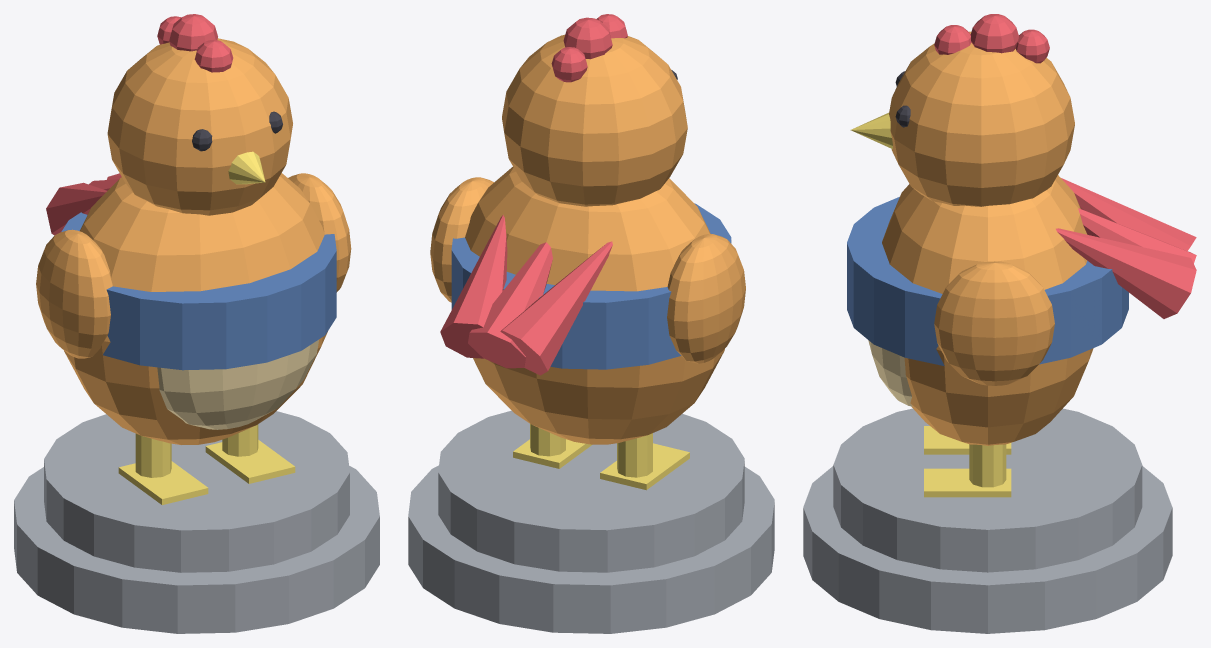
Rendered from mascot.glb.
3 views of the same model, side by side, from view 1: azimuth 30°, elevation 25°; view 2: azimuth 150°, elevation 25°; view 3: azimuth 270°, elevation 25° (orthographic).
Parts seen in each view (by area): view 1: Mascot; view 2: Mascot; view 3: Mascot.
Part boxes in pixels (x1,y1,x2,y2): Mascot: (14, 14, 379, 633); Mascot: (408, 14, 774, 633); Mascot: (803, 14, 1196, 633).
Size of the model in its own units: 1.1 by 1.78 by 1.17.
